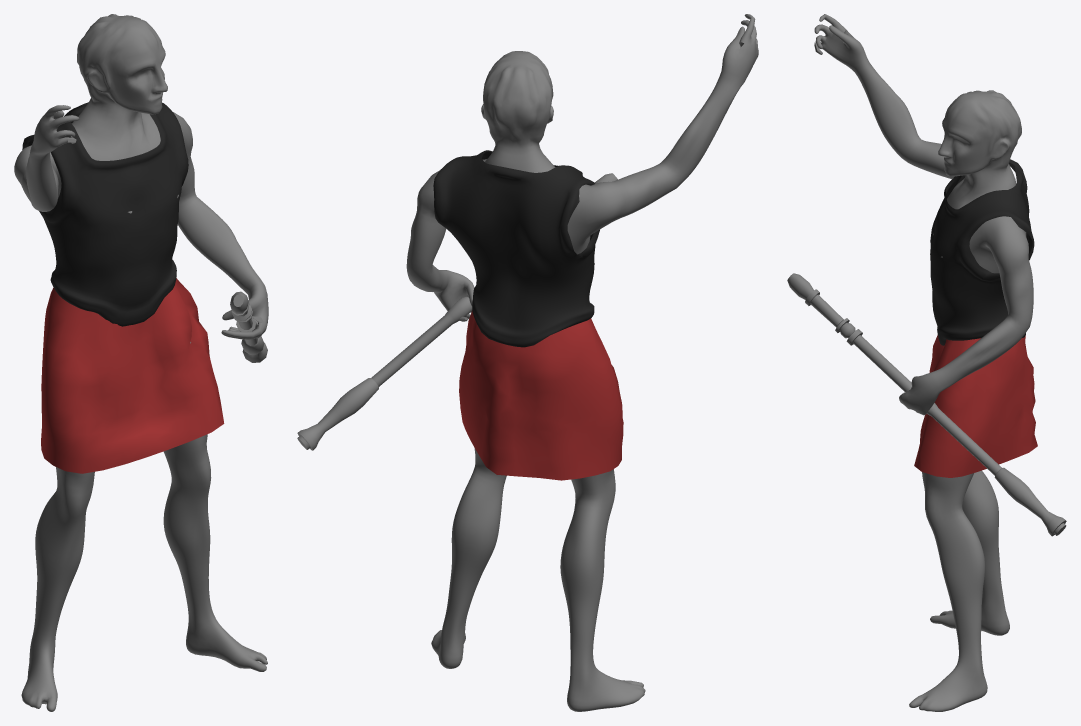
File: SM_sculpture_general.fbx
3 renders of one model, left to right at view 1: azimuth 30°, elevation 25°; view 2: azimuth 150°, elevation 25°; view 3: azimuth 270°, elevation 25°, orthographic. The views are drawn at different scales.
Visible parts, largest first — view 1: 53545; view 2: 53545; view 3: 53545.
Boxes of the visible parts, <box> form: 53545: <box>14,14,268,711</box>; 53545: <box>297,14,758,711</box>; 53545: <box>787,14,1066,711</box>.
Size of the model in its own units: 39.33 by 71.86 by 30.99.
